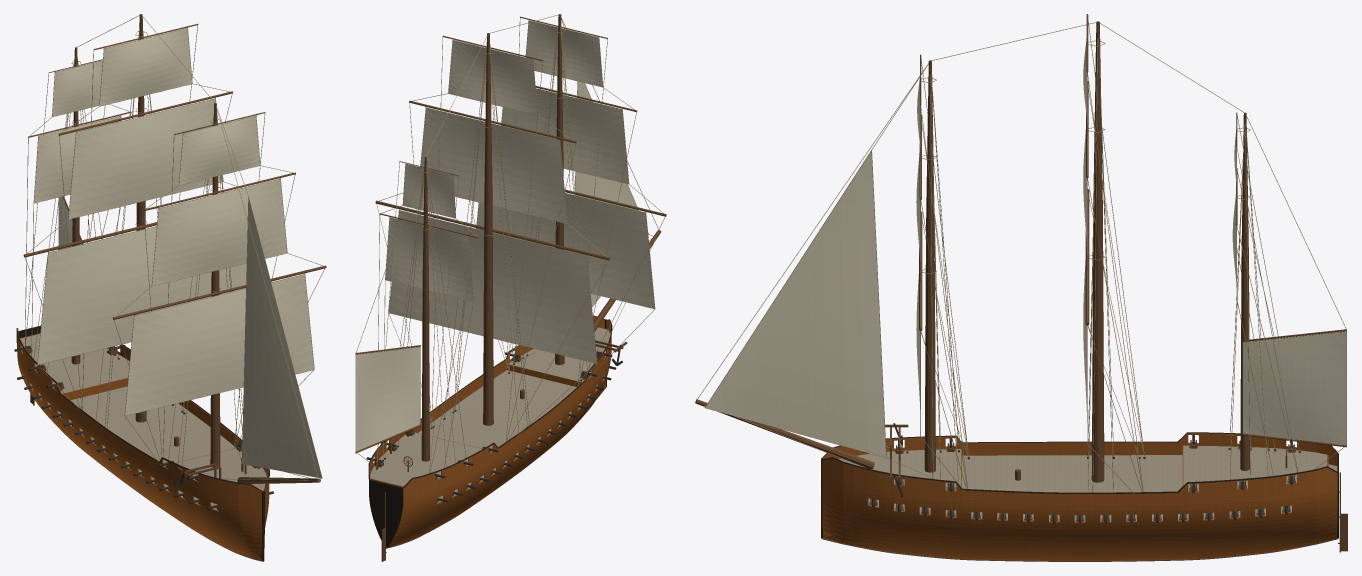
The model's file is ship.glb.
3 views of the same model, side by side, from view 1: azimuth 30°, elevation 25°; view 2: azimuth 150°, elevation 25°; view 3: azimuth 270°, elevation 25° (orthographic). The views are drawn at different scales.
Parts seen in each view (by area): view 1: fore_square_00, main_square_00, hull_shell_starboard, jib_00, main_square_01, fore_square_01, main_deck, main_square_02, fore_square_02, castle_deck_0, mizzen_square_00, mizzen_square_01 (+14 smaller); view 2: main_square_00, main_square_01, hull_shell_starboard, fore_square_00, fore_square_01, main_deck, mizzen_gaff_02, mizzen_square_00, main_square_02, main, fore_square_02, castle_deck_0 (+15 smaller); view 3: hull_shell_port, jib_00, mizzen_gaff_02, main_deck, hull_shell_starboard, main, castle_deck_0, fore, castle_deck_1, mizzen, gunwale_port, bowsprit (+1 smaller).
Part boxes in pixels (<box>): fore_square_00: <box>125,274,314,415</box>; main_square_00: <box>37,226,246,364</box>; hull_shell_starboard: <box>17,328,262,560</box>; jib_00: <box>242,198,321,477</box>; main_square_01: <box>68,99,222,218</box>; fore_square_01: <box>152,179,286,285</box>; main_deck: <box>70,386,235,463</box>; main_square_02: <box>99,28,191,105</box>; fore_square_02: <box>179,116,259,184</box>; castle_deck_0: <box>20,334,129,393</box>; mizzen_square_00: <box>34,116,120,202</box>; mizzen_square_01: <box>52,61,102,116</box>; main_square_00: <box>389,210,596,363</box>; main_square_01: <box>420,108,567,223</box>; hull_shell_starboard: <box>387,319,611,547</box>; fore_square_00: <box>476,193,654,308</box>; fore_square_01: <box>501,88,628,183</box>; main_deck: <box>418,370,576,448</box>; mizzen_gaff_02: <box>356,347,420,451</box>; mizzen_square_00: <box>385,218,473,300</box>; main_square_02: <box>448,40,537,114</box>; main: <box>483,33,493,425</box>; fore_square_02: <box>526,21,602,86</box>; castle_deck_0: <box>370,432,491,486</box>; hull_shell_port: <box>822,458,1337,560</box>; jib_00: <box>705,151,886,457</box>; mizzen_gaff_02: <box>1243,331,1346,444</box>; main_deck: <box>962,455,1337,492</box>; hull_shell_starboard: <box>822,433,1337,465</box>; main: <box>1091,21,1104,482</box>; castle_deck_0: <box>1183,445,1326,491</box>; fore: <box>924,60,935,472</box>; castle_deck_1: <box>839,449,961,490</box>; mizzen: <box>1240,112,1249,470</box>; gunwale_port: <box>821,457,1338,493</box>; bowsprit: <box>695,399,874,468</box>.
Bounding box in the file's own units: 29.5 × 55.43 × 60.69.
7 materials, 7 textured.
